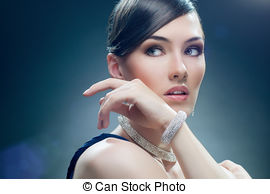face: (103, 1, 211, 130)
